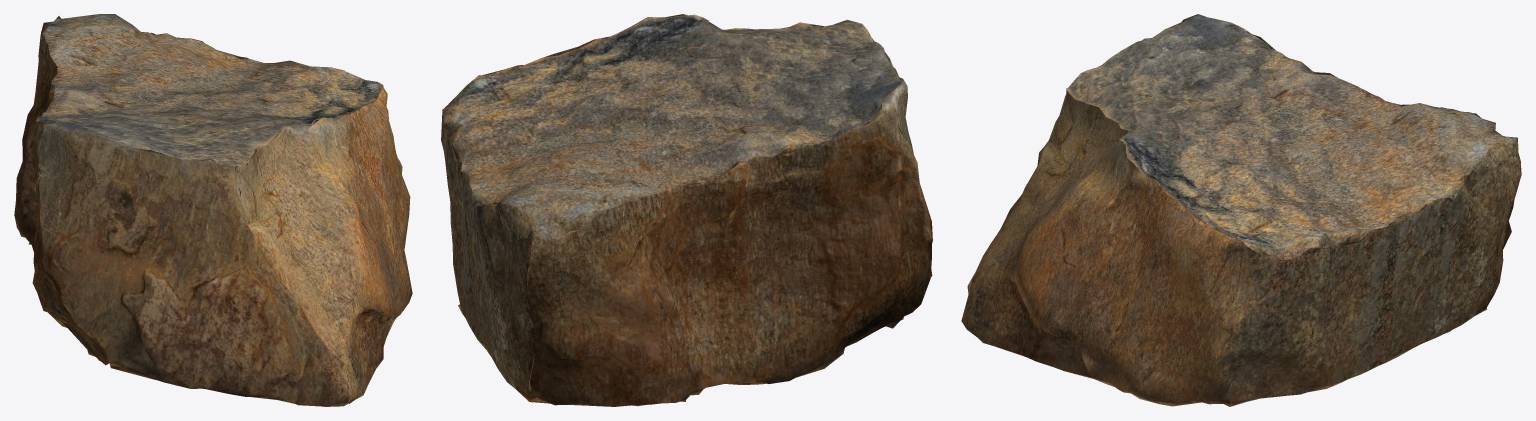
Rendered from namaqualand_boulder_03.glb.
3 renders of one model, left to right at view 1: azimuth 30°, elevation 25°; view 2: azimuth 150°, elevation 25°; view 3: azimuth 270°, elevation 25°, orthographic. The views are drawn at different scales.
Visible parts, largest first — view 1: lod0; view 2: lod0; view 3: lod0.
Boxes of the visible parts, bbox=[...] form: lod0: bbox=[14, 14, 412, 406]; lod0: bbox=[441, 14, 932, 406]; lod0: bbox=[961, 14, 1521, 406].
Size of what is drawn, in the model's own units: 2.4 by 1.48 by 3.09.
1 material, 1 textured.
